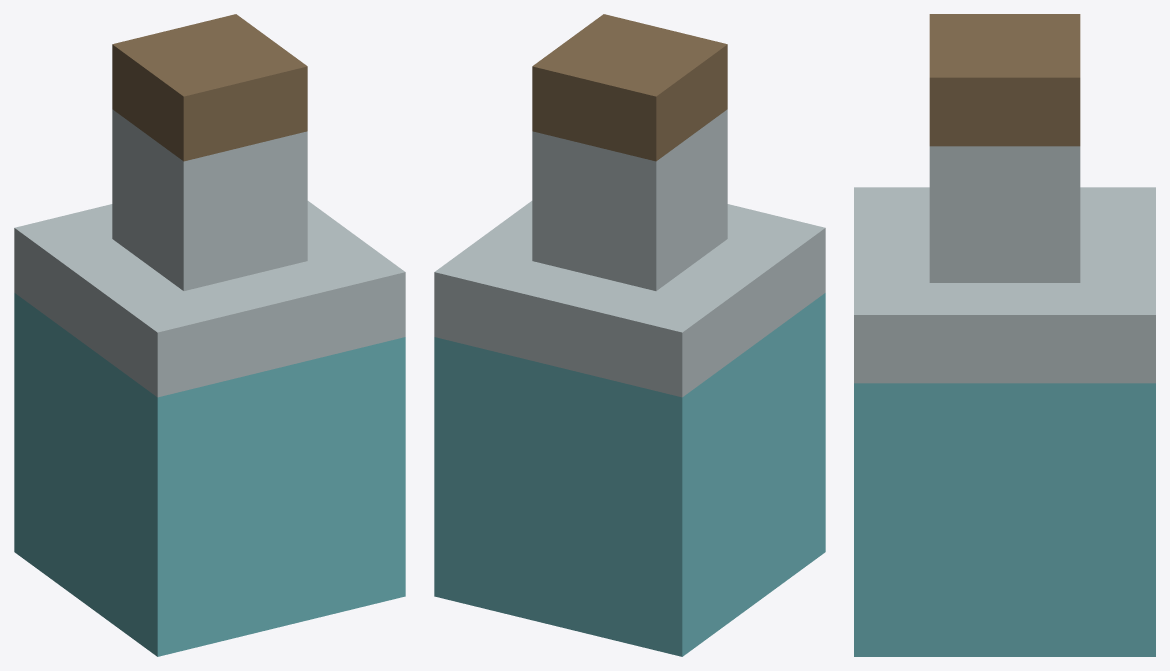
The model's file is tonico_agilidad_01.glb.
3 renders of one model, left to right at view 1: azimuth 30°, elevation 25°; view 2: azimuth 150°, elevation 25°; view 3: azimuth 270°, elevation 25°, orthographic. The views are drawn at different scales.
Visible parts, largest first — view 1: tonico_agilidad; view 2: tonico_agilidad; view 3: tonico_agilidad.
Part boxes in pixels (box(x1,y1,x2,y2)): tonico_agilidad: box(14, 14, 405, 656); tonico_agilidad: box(434, 14, 825, 656); tonico_agilidad: box(854, 14, 1155, 656).
Size of the model in its own units: 0.3333 by 0.6667 by 0.3333.
